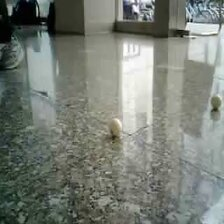w: (107, 118, 123, 136), (210, 94, 222, 109)
